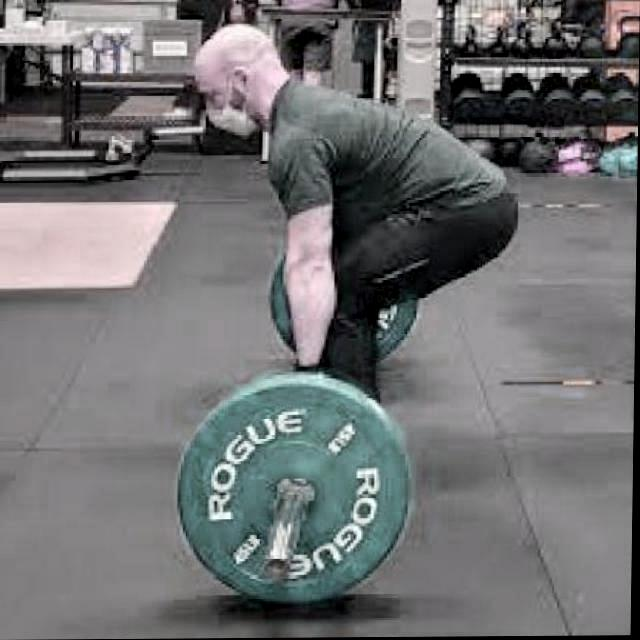barbell: (171, 374, 419, 609)
